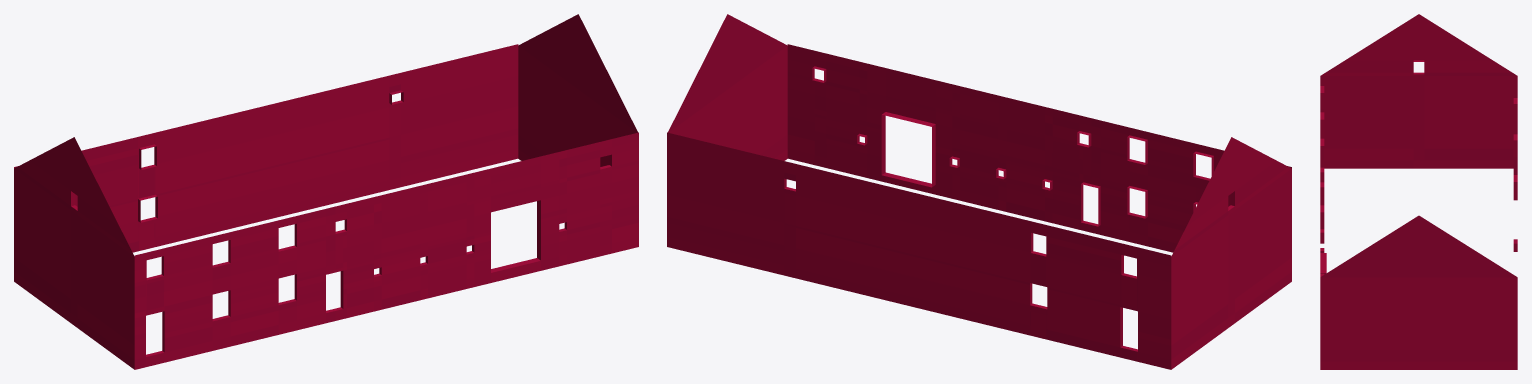
File: SM_Bld_231_Masonry.glb
3 renders of one model, left to right at view 1: azimuth 30°, elevation 25°; view 2: azimuth 150°, elevation 25°; view 3: azimuth 270°, elevation 25°, orthographic. The views are drawn at different scales.
Visible parts, largest first — view 1: SM_Bld_231_Masonry; view 2: SM_Bld_231_Masonry; view 3: SM_Bld_231_Masonry.
Boxes of the visible parts, x1,y1,x2,y2 form: SM_Bld_231_Masonry: [14, 14, 638, 369]; SM_Bld_231_Masonry: [667, 14, 1291, 369]; SM_Bld_231_Masonry: [1320, 14, 1517, 369].
Bounding box in the file's own units: 26.12 × 9.35 × 10.83.
